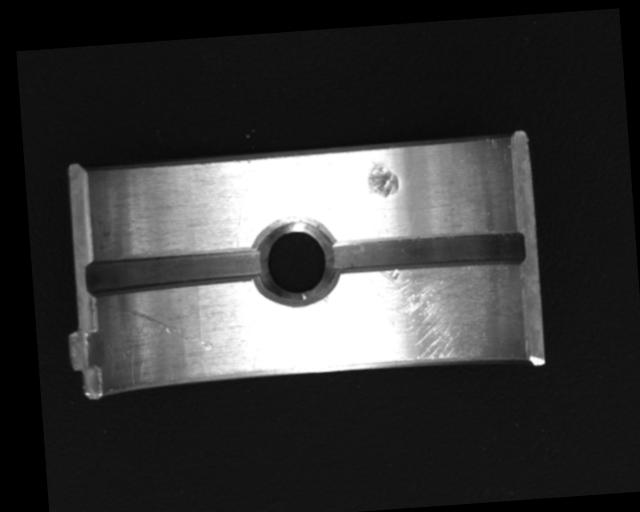bruise: (367, 160, 400, 201)
gap: (325, 227, 525, 280), (85, 246, 263, 296)
hole: (251, 215, 338, 306)
nick: (124, 299, 213, 358)
scratch: (332, 262, 520, 371)
